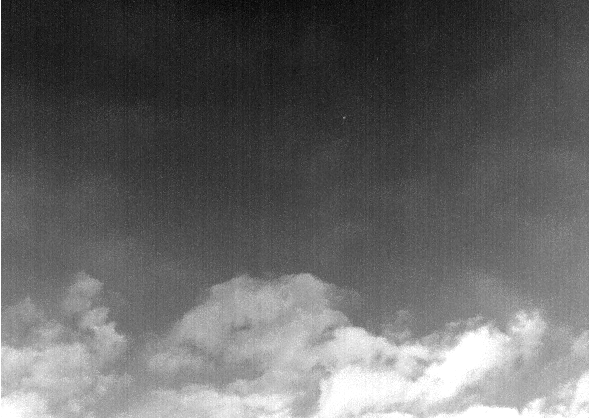dim target: (341, 115, 347, 120)
